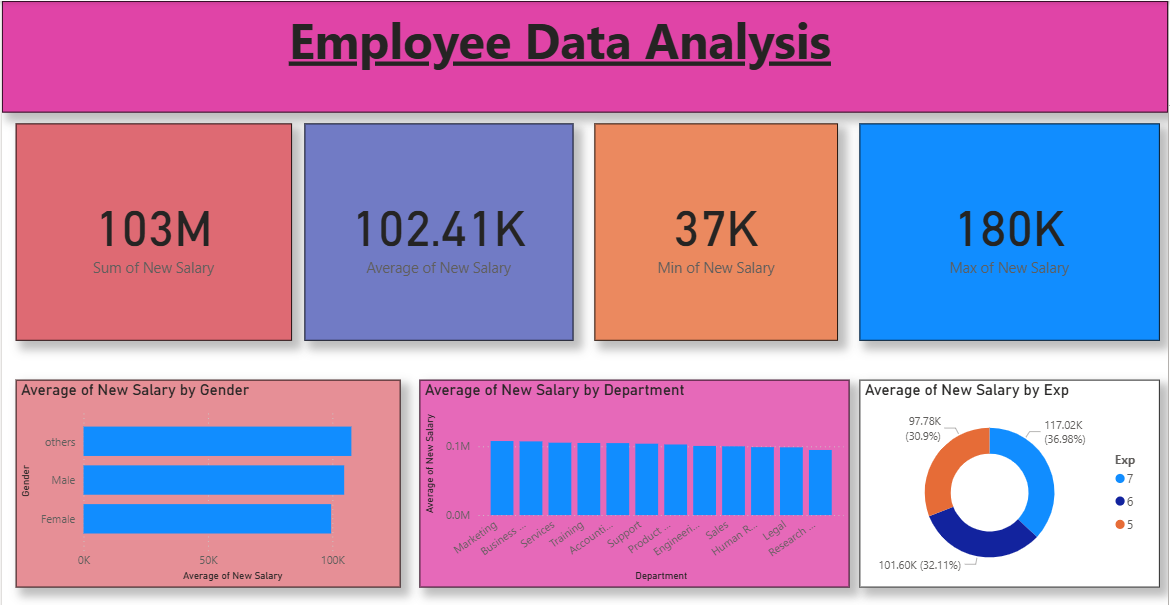

This screenshot's page, from the dashboard's own definition file:
{"tool":"powerbi","page":{"name":"Page 1","canvas":[1280,720],"ordinal":0},"visuals":[{"type":"textbox","box":[0,0,1280.3,122.1],"z":0},{"type":"card","fields":{"Values":["Sum(Emp_Data.New Salary)"]},"box":[15.1,134.5,303.3,238.8],"z":1000},{"type":"card","fields":{"Values":["Min(Emp_Data.New Salary)"]},"box":[650.4,134.5,267.6,238.8],"z":2000},{"type":"card","fields":{"Values":["Max(Emp_Data.New Salary)"]},"box":[941.3,134.5,329.3,238.8],"z":3000},{"type":"card","fields":{"Values":["Avg(Emp_Data.New Salary)"]},"box":[332.1,134.5,295,238.8],"z":4000},{"type":"clusteredBarChart","fields":{"Category":["Emp_Data.Gender"],"Y":["Avg(Emp_Data.New Salary)"]},"box":[15.1,415.8,422.6,227.8],"z":5000},{"type":"columnChart","fields":{"Category":["Emp_Data.Department"],"Y":["Avg(Emp_Data.New Salary)"]},"box":[458.3,415.8,472,227.8],"z":6000},{"type":"donutChart","fields":{"Category":["Emp_Data.Exp"],"Y":["Avg(Emp_Data.New Salary)"]},"box":[941.3,415.8,329.3,227.8],"z":7000}]}

Visuals, with their boxes on the page's 1280x720 design canvas (x1, y1, x2, y2). These are canvas units, not pixel positions in the 1170x605 screenshot, which may show the page scaled, cropped or inside an application window:
textbox: select_region(0, 0, 1280, 122)
card - Sum(Emp_Data.New Salary): select_region(15, 134, 318, 373)
card - Min(Emp_Data.New Salary): select_region(650, 134, 918, 373)
card - Max(Emp_Data.New Salary): select_region(941, 134, 1271, 373)
card - Avg(Emp_Data.New Salary): select_region(332, 134, 627, 373)
clusteredBarChart - Emp_Data.Gender x Avg(Emp_Data.New Salary): select_region(15, 416, 438, 644)
columnChart - Emp_Data.Department x Avg(Emp_Data.New Salary): select_region(458, 416, 930, 644)
donutChart - Emp_Data.Exp x Avg(Emp_Data.New Salary): select_region(941, 416, 1271, 644)
